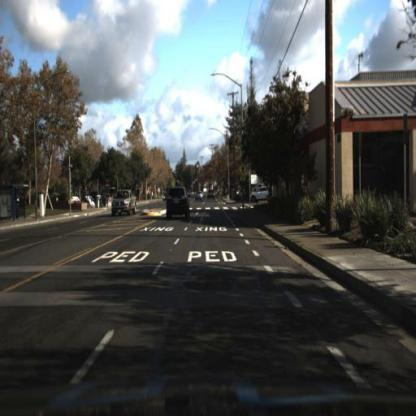car: (161, 182, 195, 229), (165, 189, 190, 223), (112, 186, 139, 217), (251, 186, 274, 204), (206, 186, 218, 202), (193, 191, 205, 204)
pedestrian: (240, 187, 248, 210)
